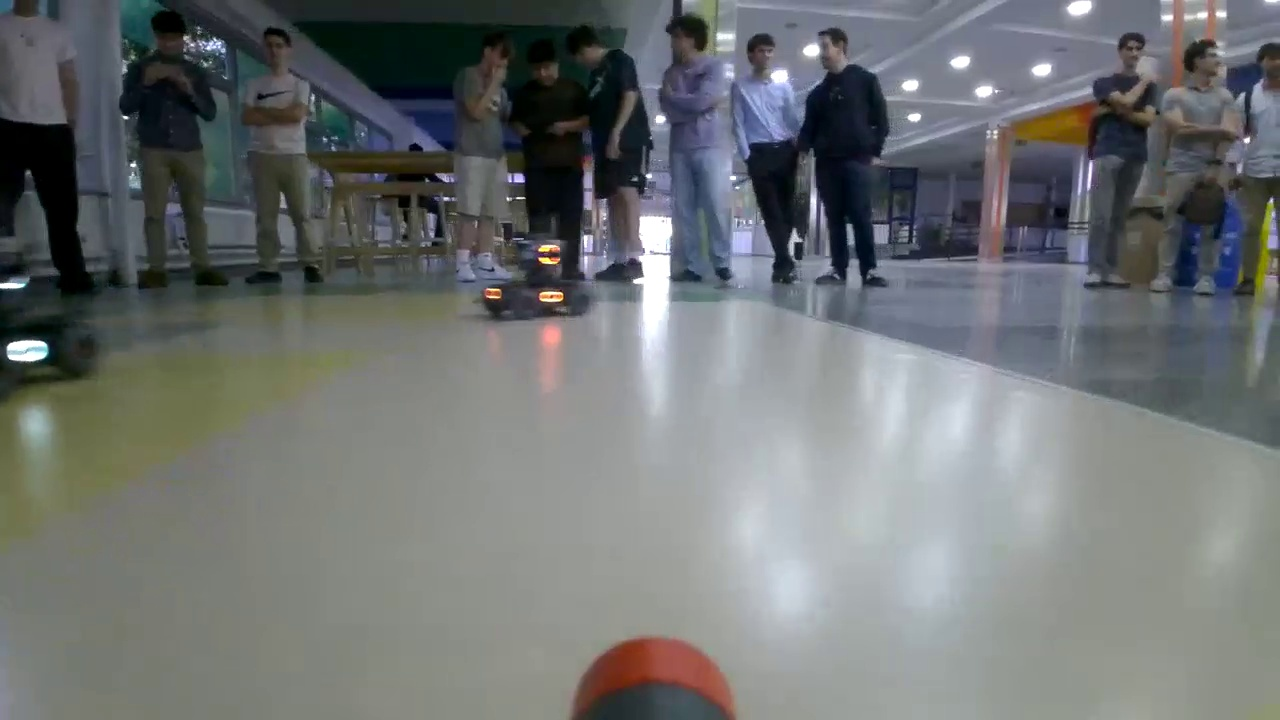robot: (1, 246, 95, 378), (478, 242, 592, 319)
